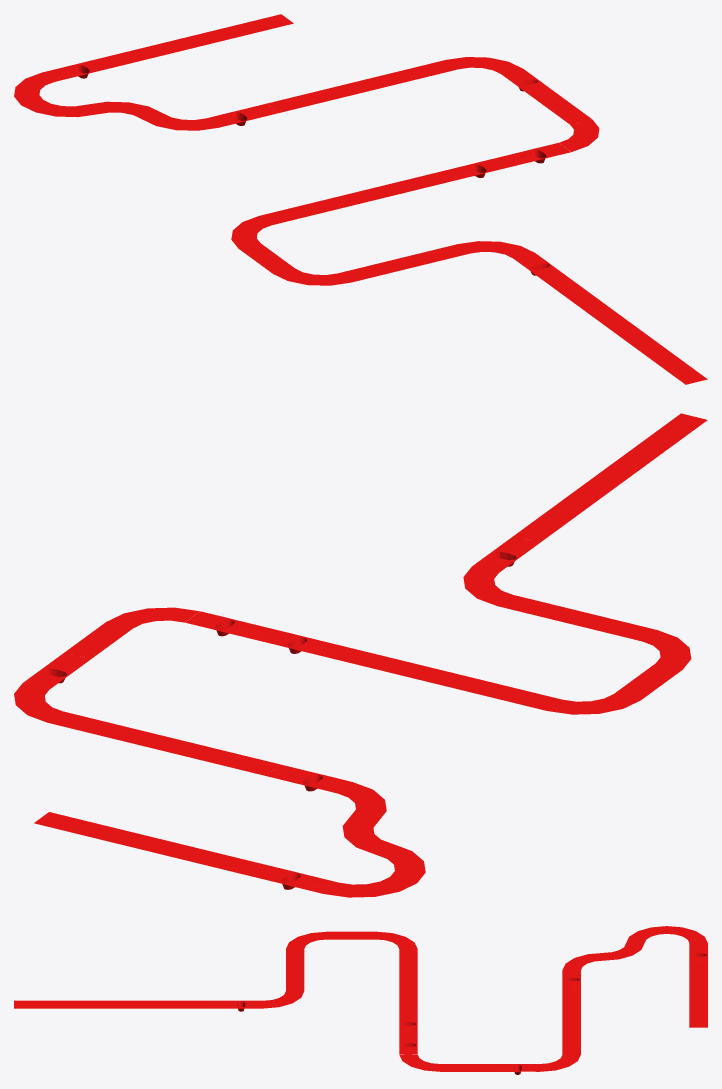
Rendered from Forest_Track_01.fbx.
3 views of the same model, one above another, from view 1: azimuth 30°, elevation 25°; view 2: azimuth 150°, elevation 25°; view 3: azimuth 270°, elevation 25° (orthographic). The views are drawn at different scales.
Parts seen in each view (by area): view 1: Plane066; view 2: Plane066; view 3: Plane066.
Part boxes in pixels (x1,y1,x2,y2): Plane066: (14, 14, 707, 384); Plane066: (14, 413, 707, 897); Plane066: (14, 926, 707, 1074).
Size of the model in its own units: 4147 by 62.92 by 8343.
